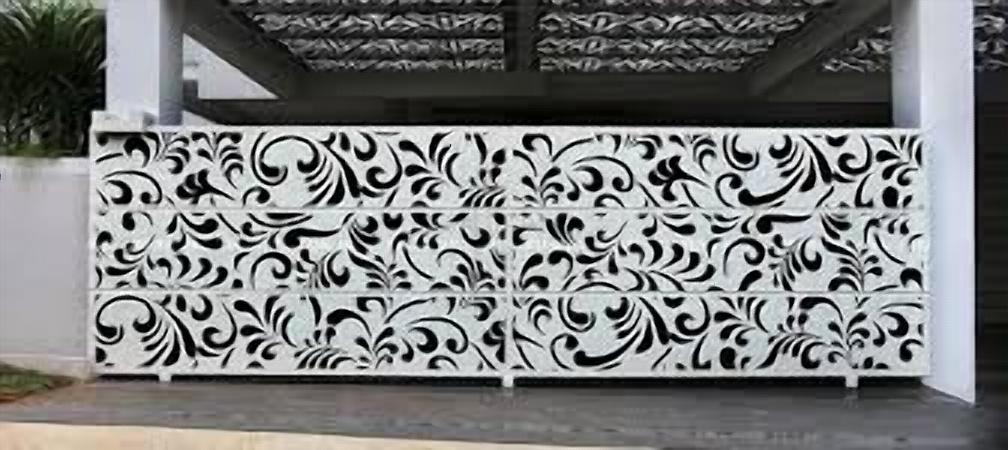Gate: (86, 123, 927, 397)
